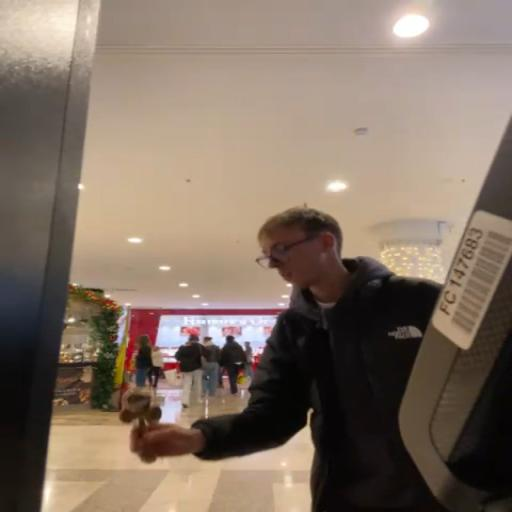kendama_ball: (122, 387, 151, 413)
